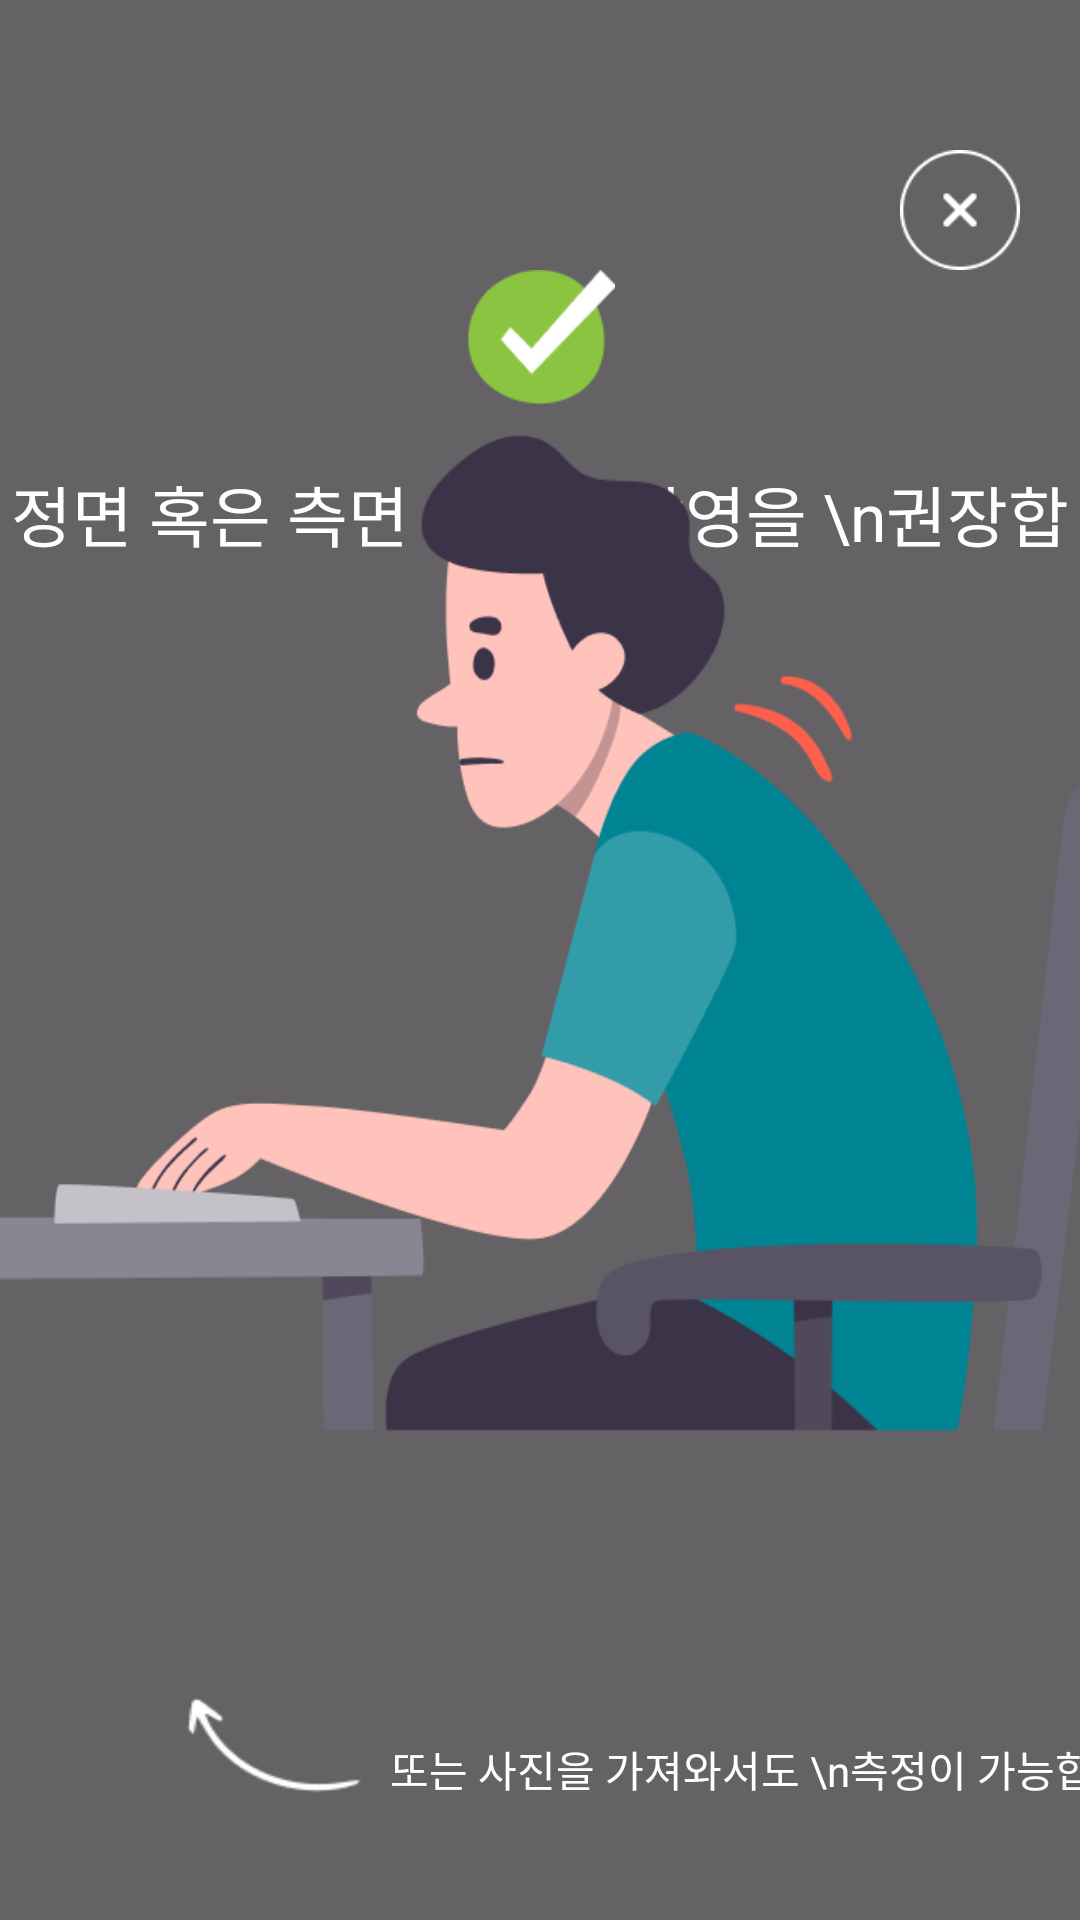

Icons on this 1080*1920 Android screen, each with the point to tap as point (x, y):
check: point (541, 337)
close: point (960, 210)
tool arrow: point (274, 1745)
